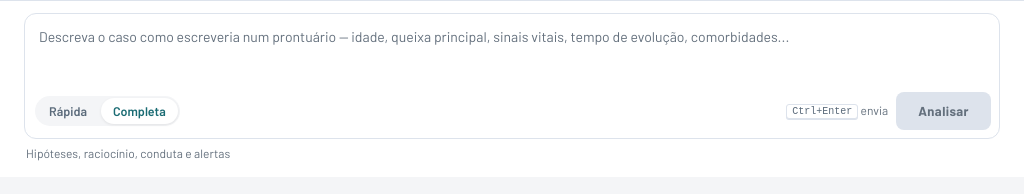
Test: CaseInput › habilita botão quando há texto
Replace the text in the text box with placeholder "Descreva o caso" with "Paciente 30 anos com febre". click: (512,50)
box: [25,14,999,86]
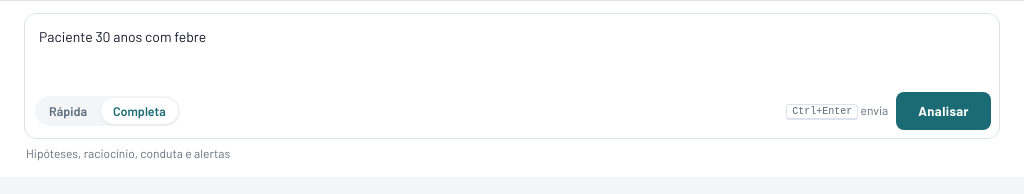
Result: the button "Analisar" is enabled at [896,92,991,130]
